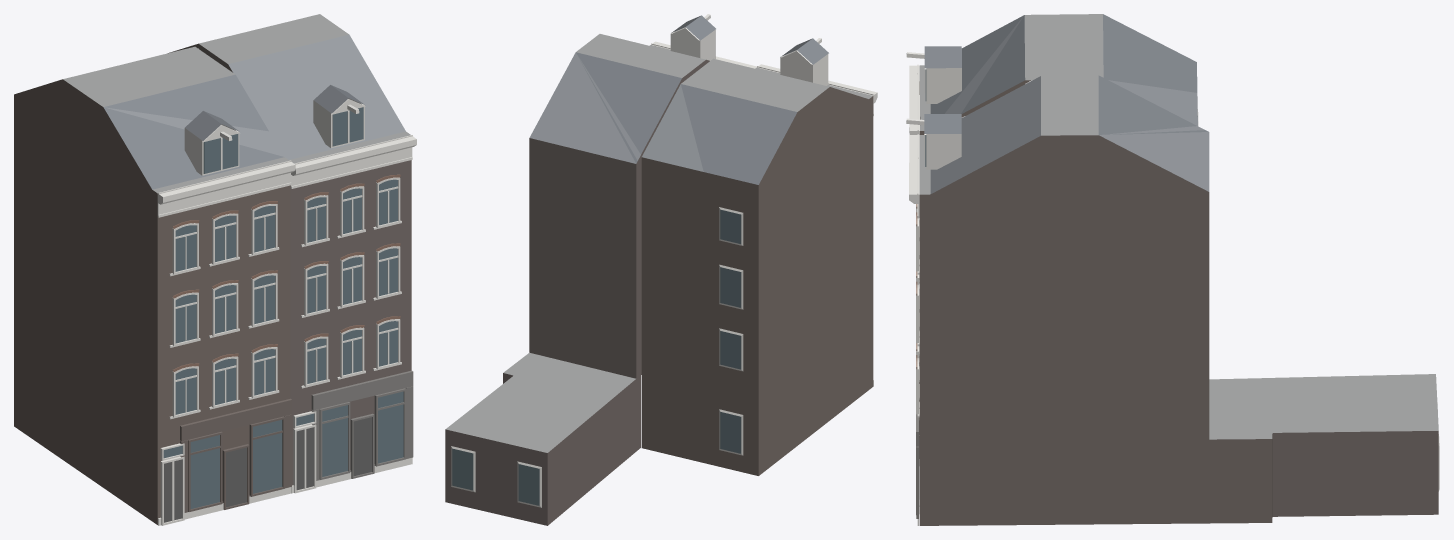
The model's file is chunk-face-helst-56-62-r1.glb.
The picture shows the model from 3 angles, left to right: view 1: azimuth 30°, elevation 25°; view 2: azimuth 150°, elevation 25°; view 3: azimuth 270°, elevation 25°; orthographic projection. The views are drawn at different scales.
Visible parts, largest first — view 1: face-helst-56-62-r1; view 2: face-helst-56-62-r1; view 3: face-helst-56-62-r1.
Part boxes in pixels (x1,y1,x2,y2): face-helst-56-62-r1: (14, 14, 416, 525); face-helst-56-62-r1: (445, 14, 877, 525); face-helst-56-62-r1: (906, 14, 1439, 525).
Size of the model in its own units: 11.58 by 16.37 by 20.33.
